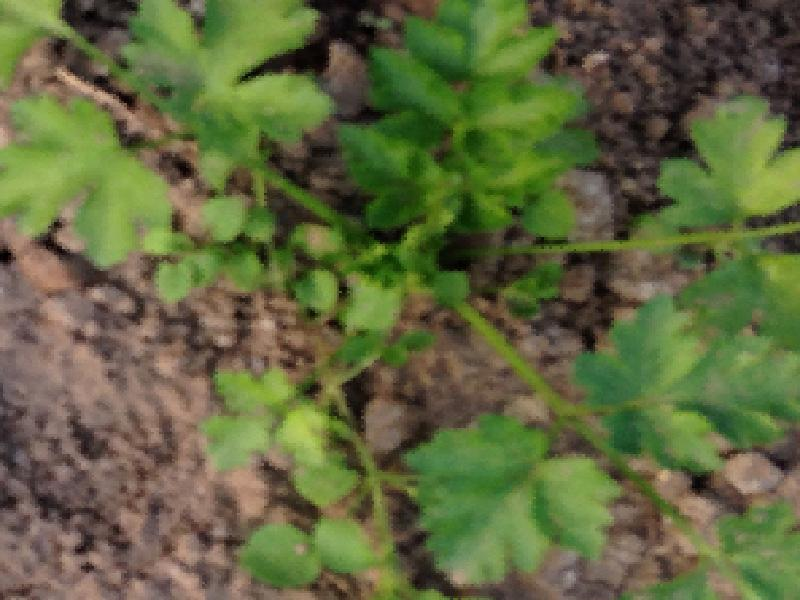radish: (0, 0, 778, 492)
